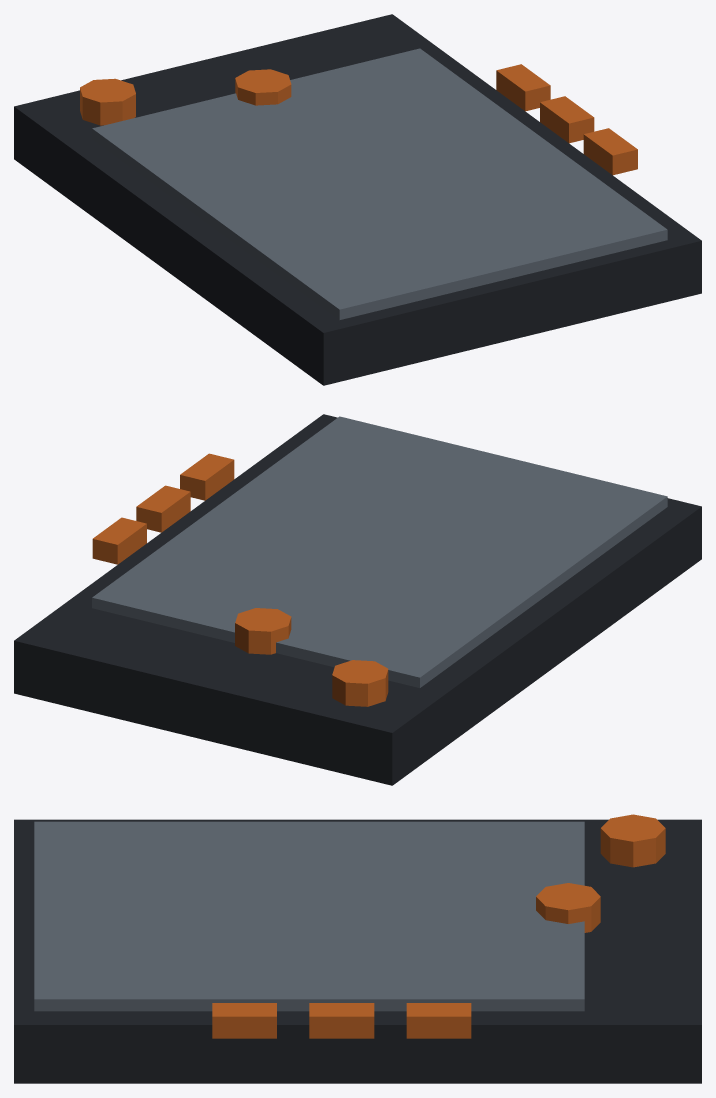
File: datapad.glb
The picture shows the model from 3 angles, top to bottom: view 1: azimuth 30°, elevation 25°; view 2: azimuth 150°, elevation 25°; view 3: azimuth 270°, elevation 25°; orthographic projection. The views are drawn at different scales.
Visible parts, largest first — view 1: m; view 2: m; view 3: m.
Boxes of the visible parts, box(x1,y1,x2,y2) form: m: box(14, 14, 701, 385); m: box(14, 414, 701, 785); m: box(14, 814, 701, 1083).
Bounding box in the file's own units: 0.064 × 0.0115 × 0.085.
